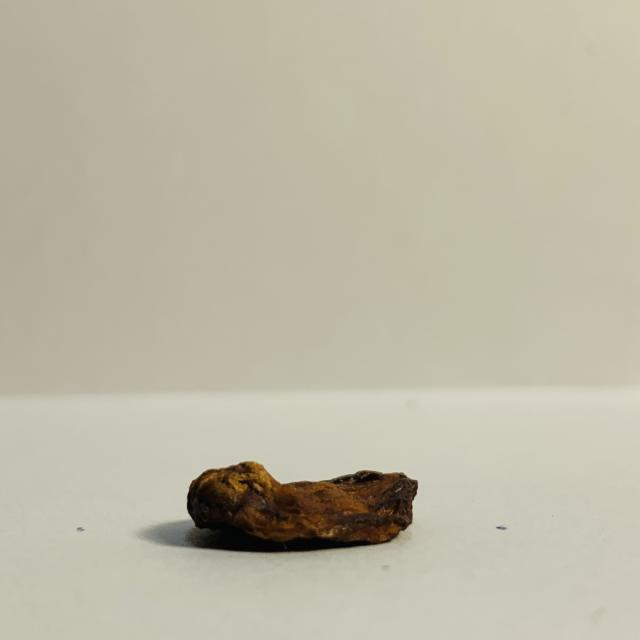Flat_cocoabeans: (75, 430, 556, 640)
